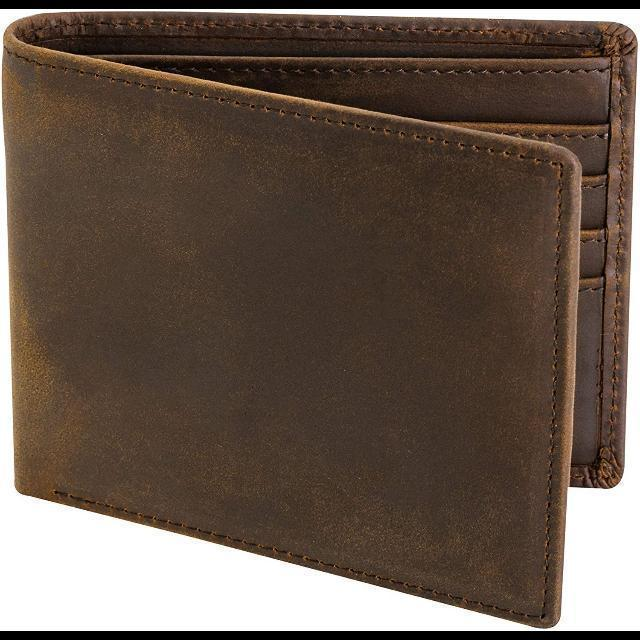wallet: (4, 8, 632, 628)
